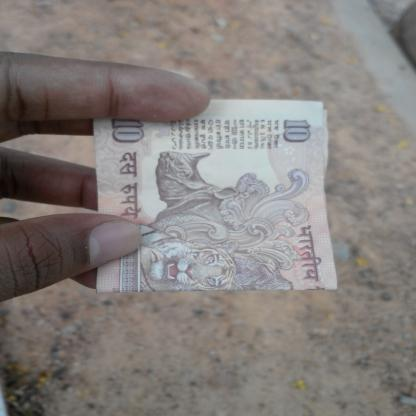Old10Back: (95, 95, 339, 295)
